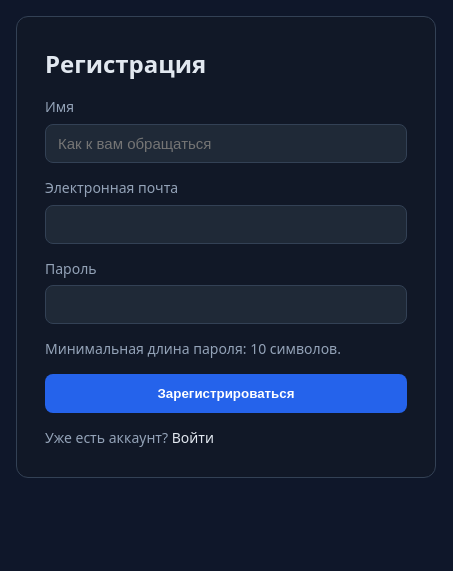
Test: <RegisterForm /> › shows localized error when the email is already taken
Type "dup@example.com" into the field labelled "Электронная почта" at (226, 224), box left=45, top=205, right=407, bottom=244
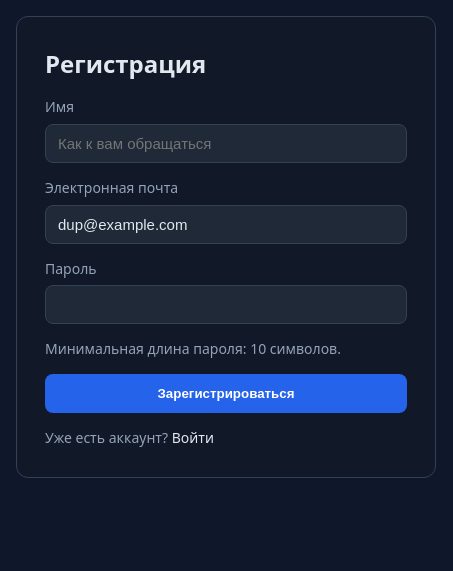
Type "SuperSecret!" into the password field labelled "Пароль" at (226, 305), box left=45, top=285, right=407, bottom=324
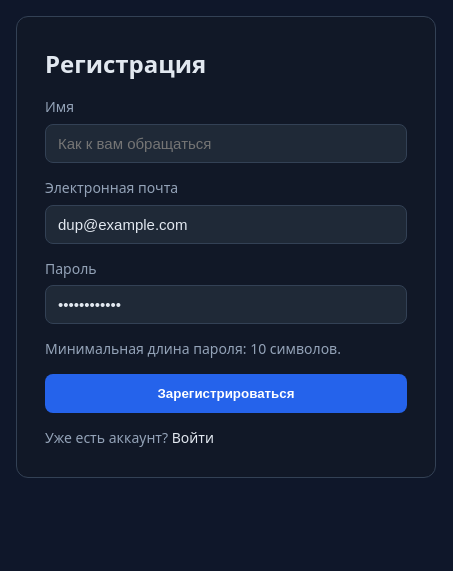
Submit the form from the button "Зарегистрироваться", box left=45, top=374, right=407, bottom=413
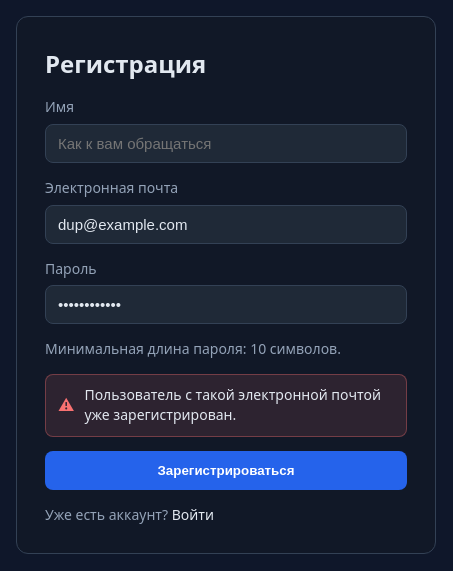
Check: the message shows "уже зарегистрирован", box left=84, top=385, right=381, bottom=424
